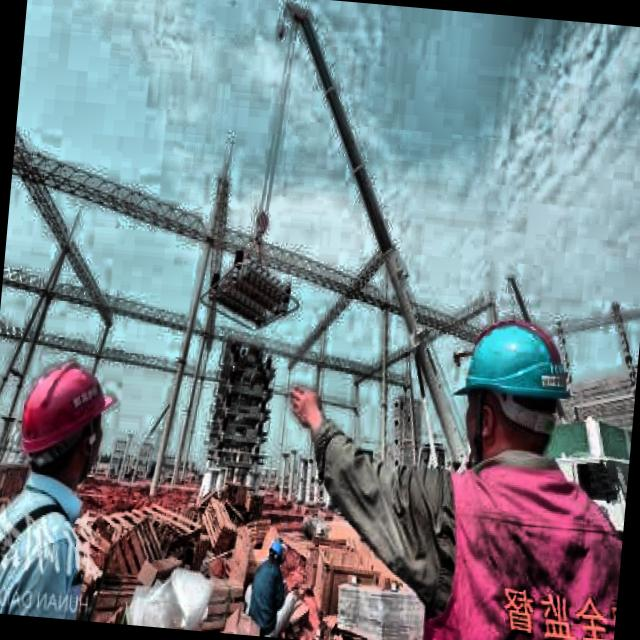helmet: (442, 306, 576, 474), (6, 350, 118, 488), (268, 532, 284, 568)
